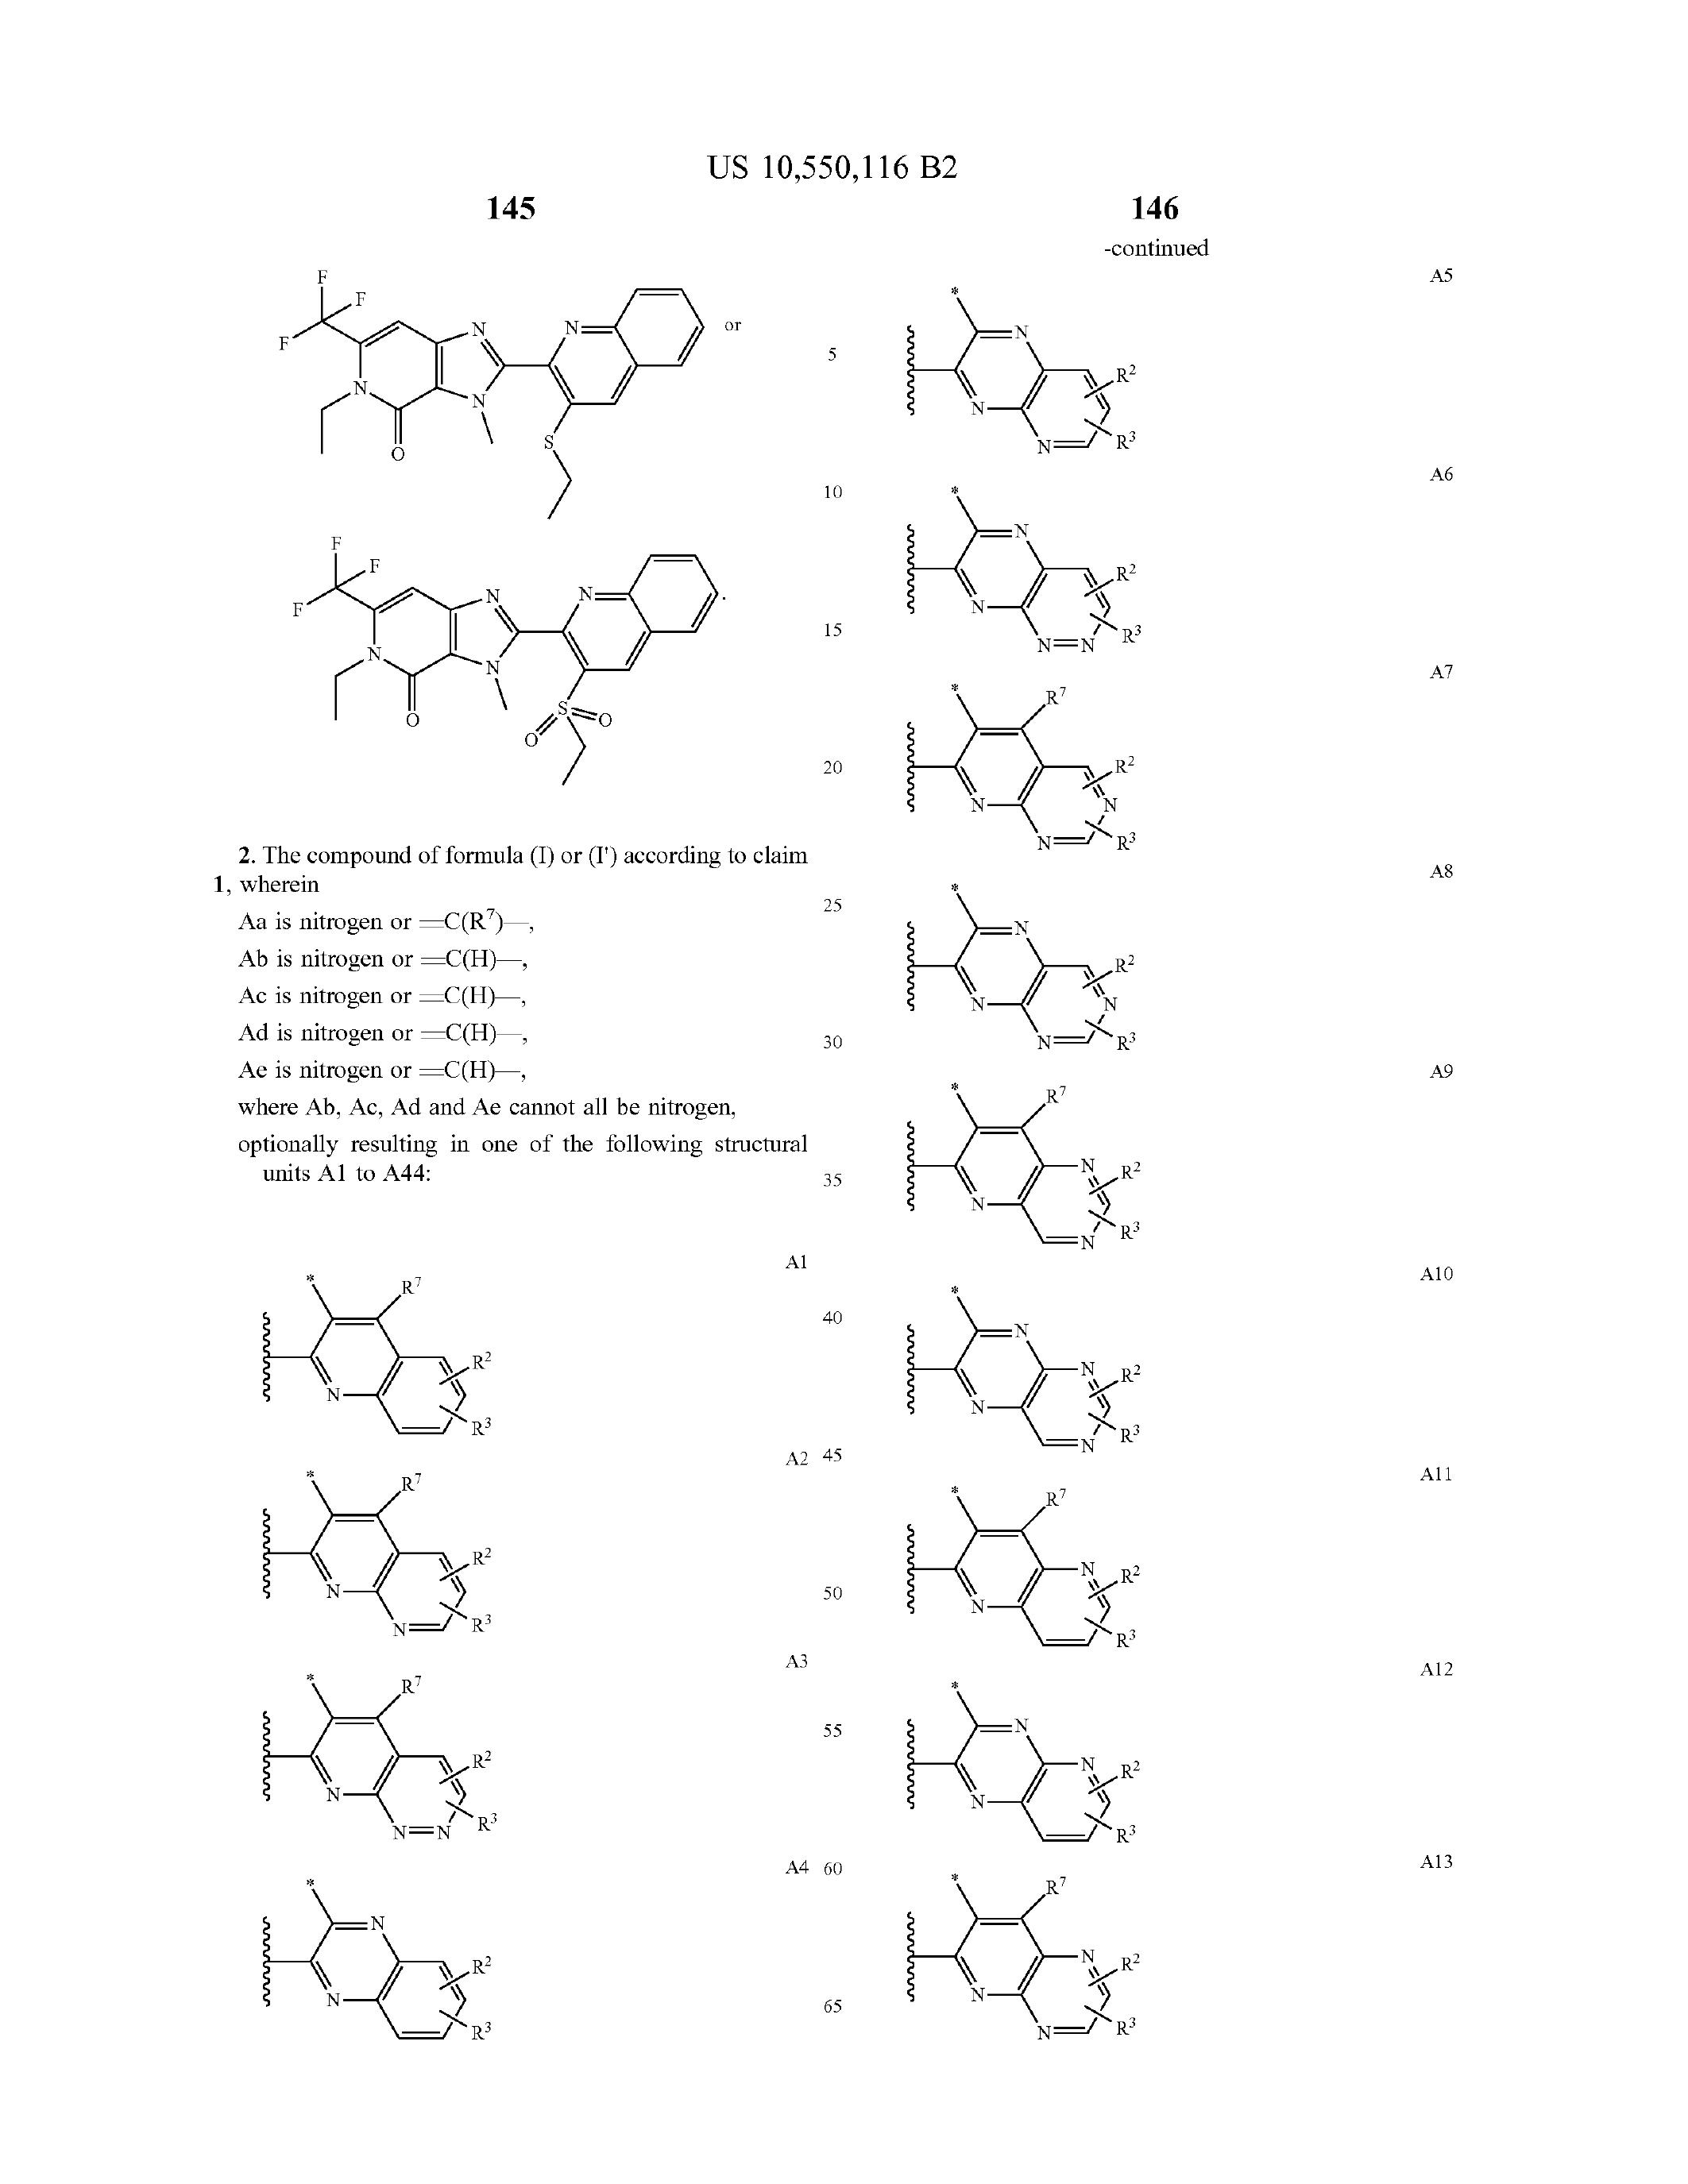relevant-structures: (262, 222, 762, 523), (239, 534, 748, 796)
substitutes: (200, 1681, 550, 1861), (218, 1462, 539, 1659), (223, 1230, 507, 1448), (206, 1884, 535, 2055), (879, 479, 1168, 665), (879, 271, 1147, 456), (892, 1074, 1156, 1259), (888, 1870, 1160, 2049), (899, 1278, 1160, 1462), (894, 877, 1151, 1058), (894, 1484, 1151, 1663), (892, 682, 1137, 862), (897, 1686, 1165, 1847)
